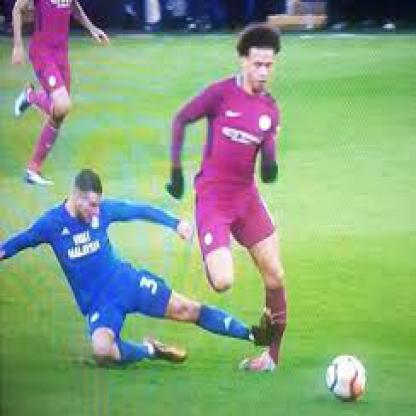Fall_Down: (0, 165, 274, 368)
